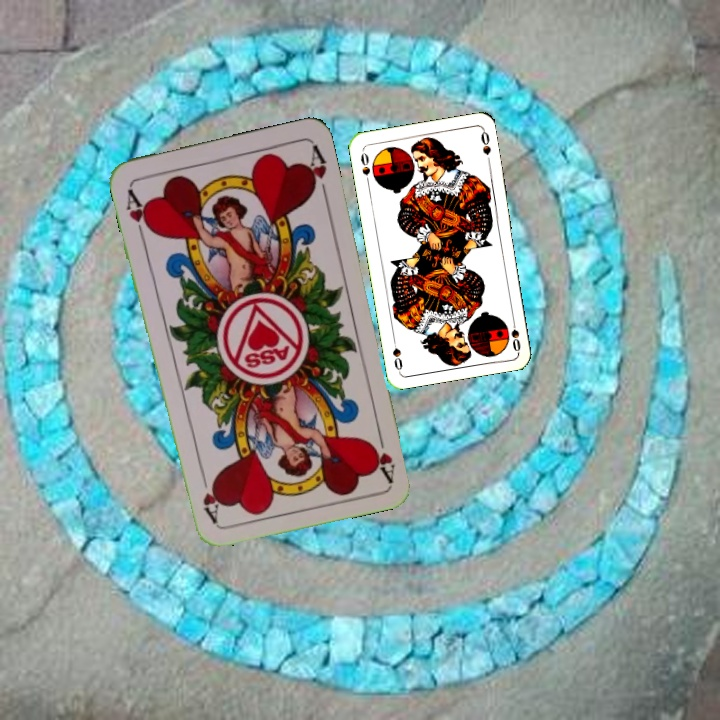HA: (121, 184, 155, 242), (365, 424, 397, 483)
SO: (507, 313, 523, 354), (357, 147, 373, 187)
